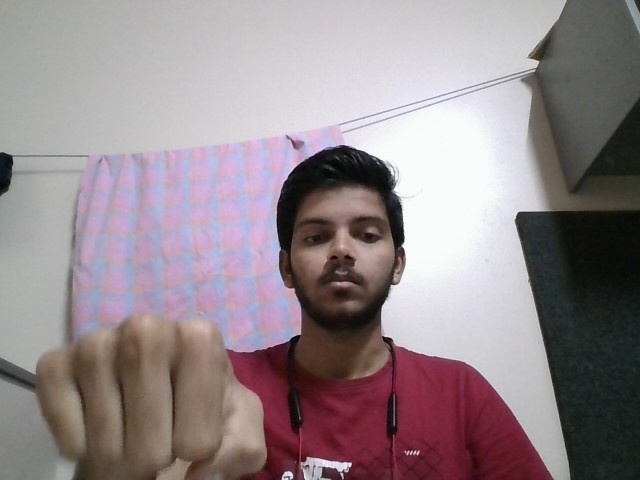No: (30, 308, 273, 477)
